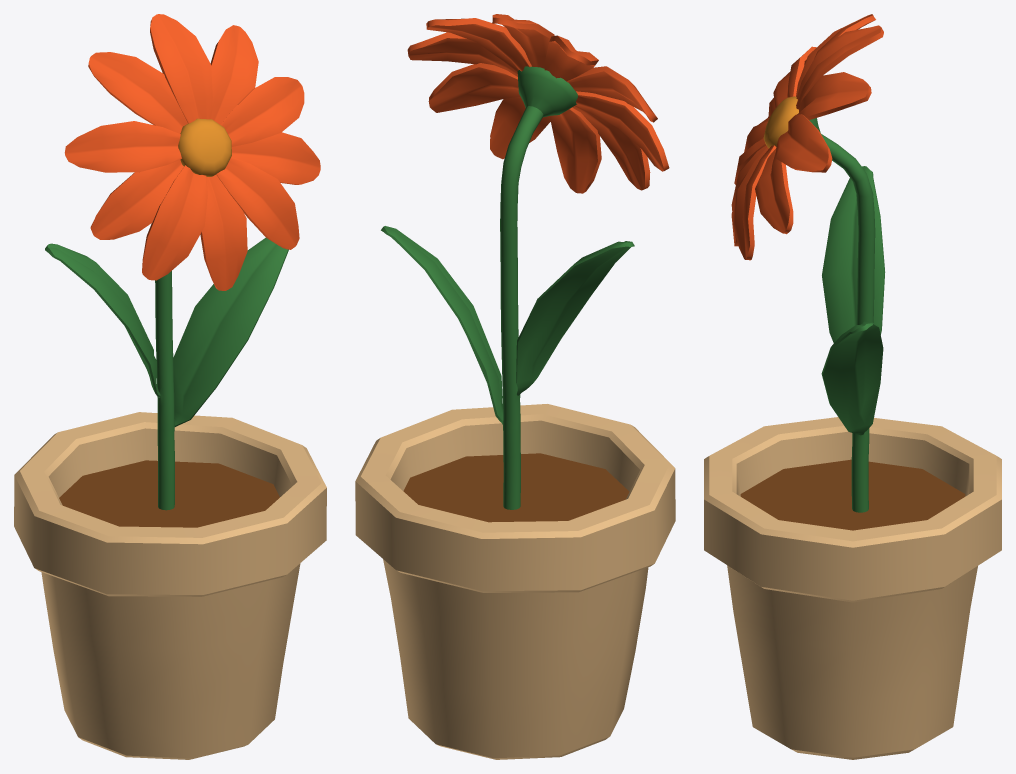
The model's file is Plant_5.fbx.
The picture shows the model from 3 angles, left to right: view 1: azimuth 30°, elevation 25°; view 2: azimuth 150°, elevation 25°; view 3: azimuth 270°, elevation 25°; orthographic projection. The views are drawn at different scales.
Visible parts, largest first — view 1: Plant_5; view 2: Plant_5; view 3: Plant_5.
Part boxes in pixels (x1,y1,x2,y2): Plant_5: (14, 14, 326, 759); Plant_5: (355, 14, 675, 759); Plant_5: (704, 14, 1001, 759).
Bounding box in the file's own units: 0.2017 × 0.4908 × 0.1916.
